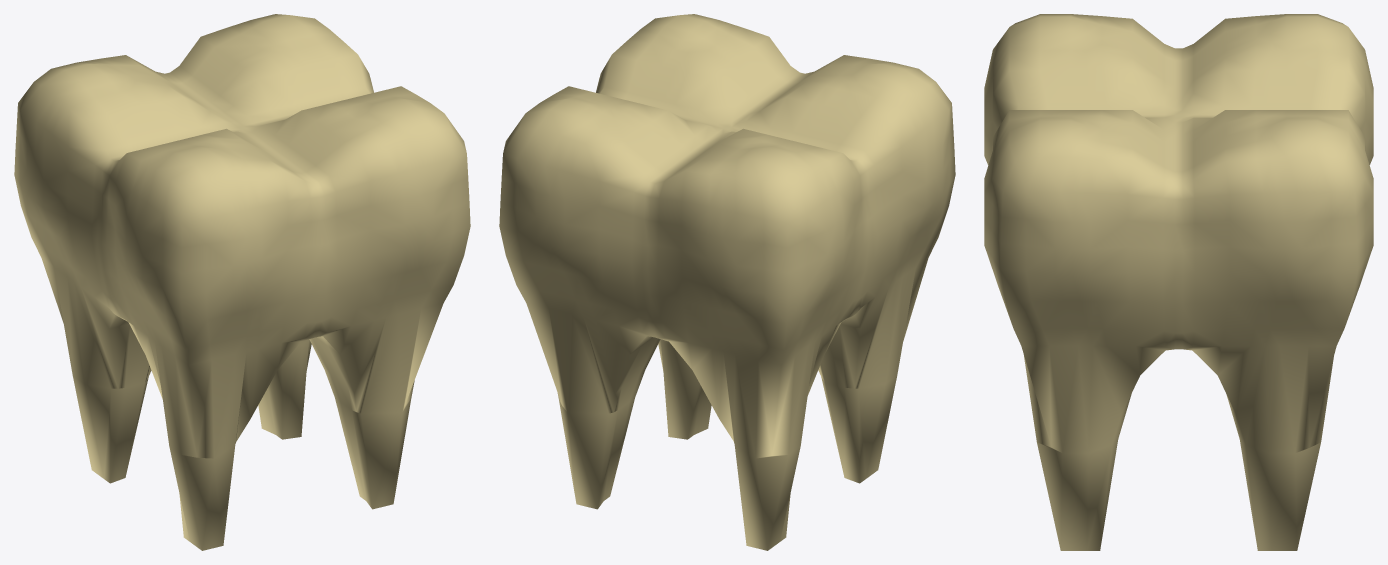
Rendered from backTeeth.obj.
3 views of the same model, side by side, from view 1: azimuth 30°, elevation 25°; view 2: azimuth 150°, elevation 25°; view 3: azimuth 270°, elevation 25° (orthographic). The views are drawn at different scales.
Parts seen in each view (by area): view 1: 立方体; view 2: 立方体; view 3: 立方体.
Boxes of the visible parts, x1,y1,x2,y2 form: 立方体: (14,14,470,550); 立方体: (499,14,955,550); 立方体: (984,14,1373,550).
Bounding box in the file's own units: 2.3 × 2.77 × 2.3.
Materials: 1 (1 with a texture image).
